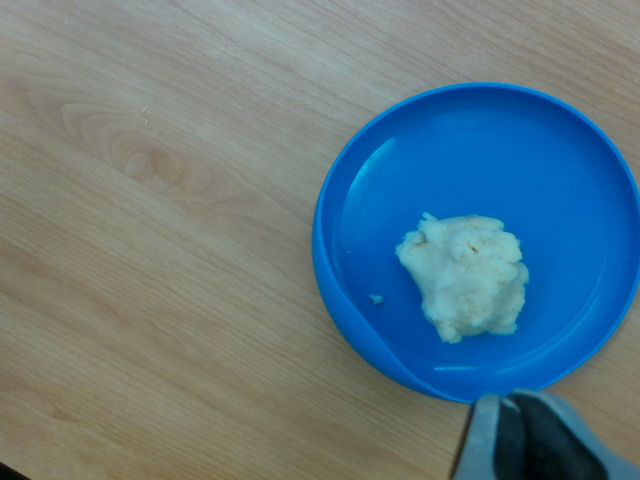mashed_potato: (397, 211, 527, 342)
